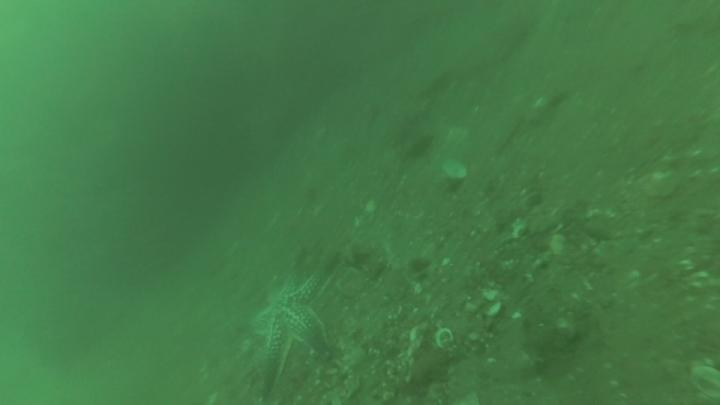echinus: (403, 133, 437, 164)
starfish: (247, 255, 339, 405)
